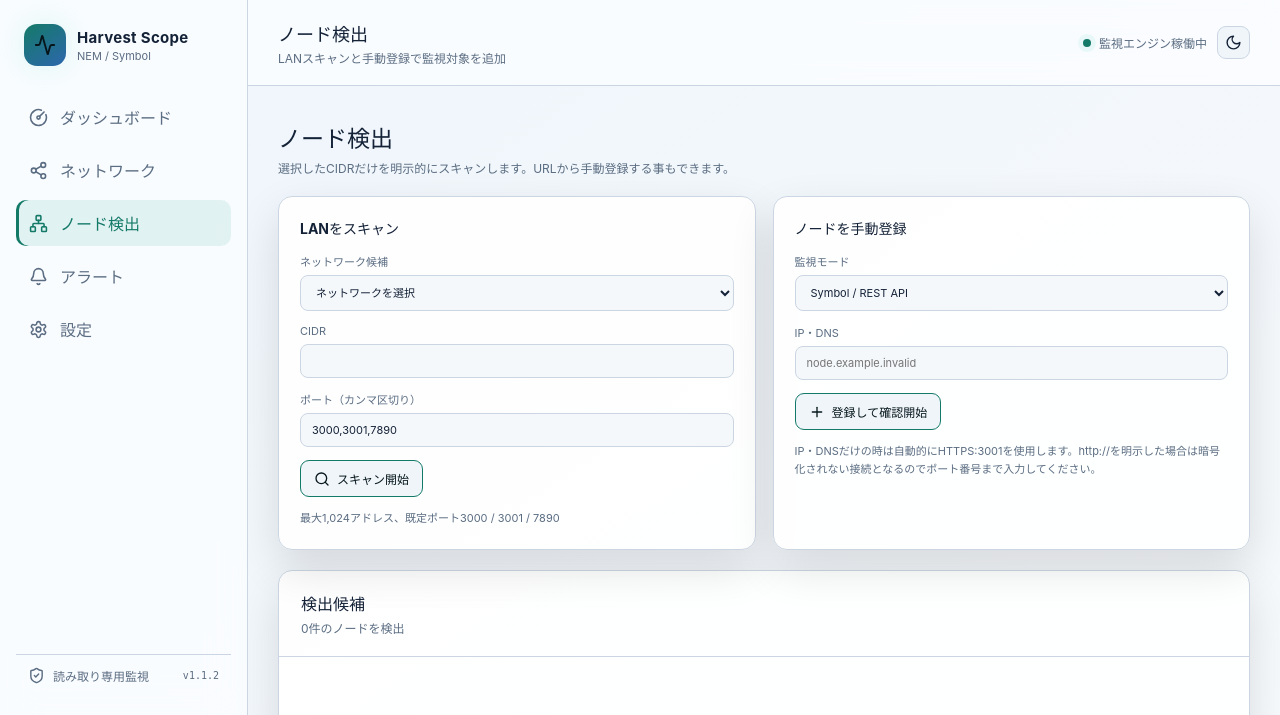
Test case: URLだけで登録し成功結果を表示する
This screenshot has width=1280, height=715.
Type "https://example.test:3001" into the field labelled "IP・DNS".
click(1011, 363); type("https://example.test:3001")  # box [794,346,1228,380]
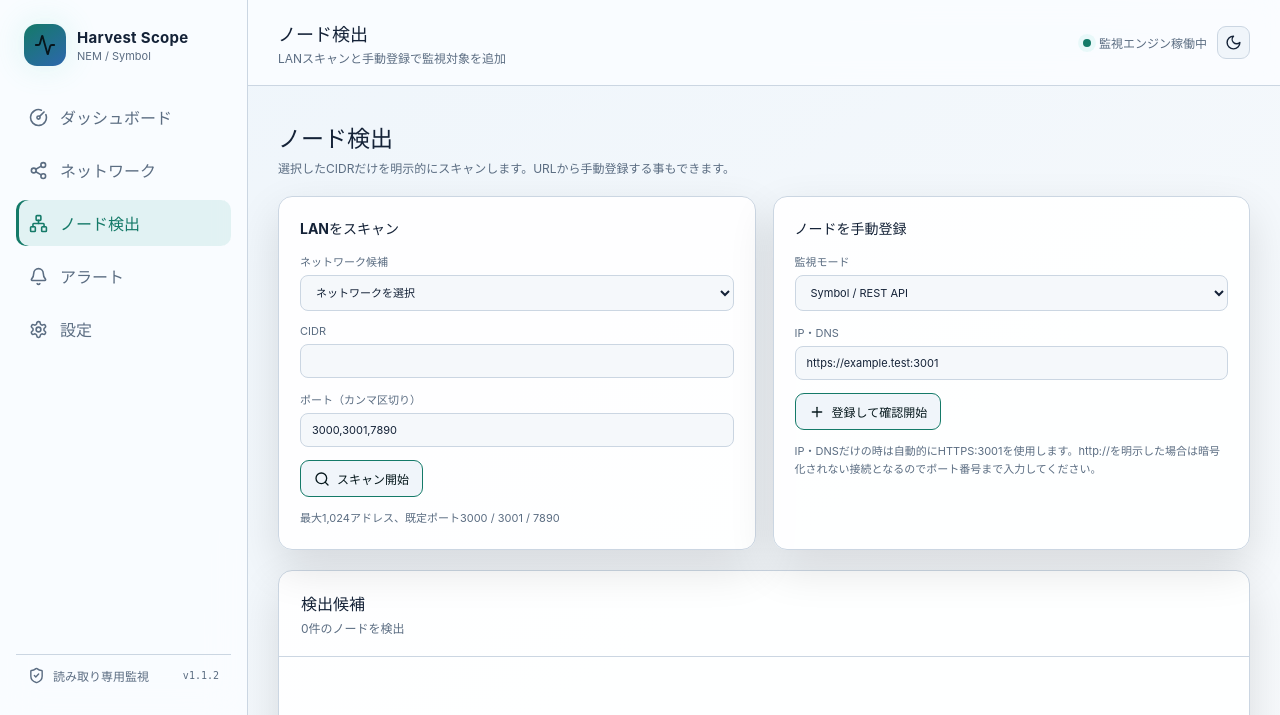
Click the button "登録して確認開始".
click(868, 412)  # box [794,393,941,430]
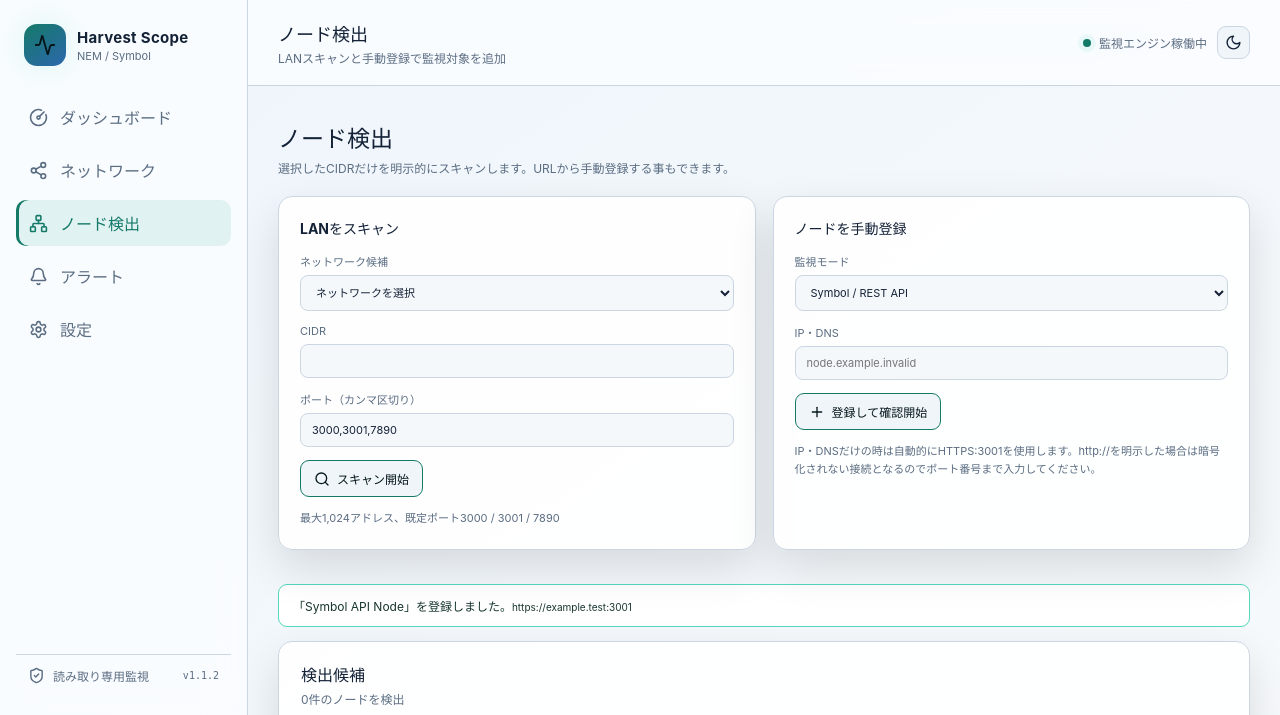
Expected: the text "「Symbol API Node」を登録しました。" is shown, [278,584,1250,627]
Expected: the text "https://example.test:3001" is shown, [512,601,632,613]
Expected: the field labelled "IP・DNS" is empty, [794,346,1228,380]
